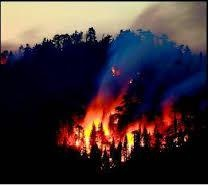fire: (58, 77, 198, 160)
